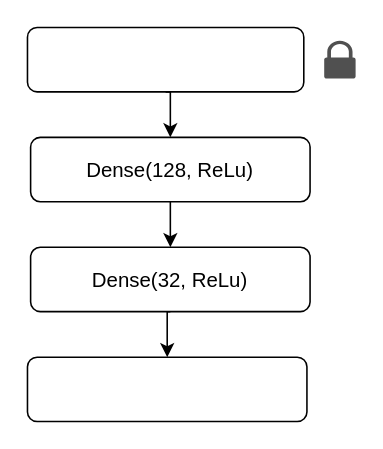
Some shapes in this 383 by 449 pixel diagram are drawn without their labels. The centre of each missing label's shape, as x and y in pixels:
"Dense(1, Sigmoid)" goes at (166,389).
"DenseNet201, E.Ransome weights (64, 64, 13)" goes at (165,59).
